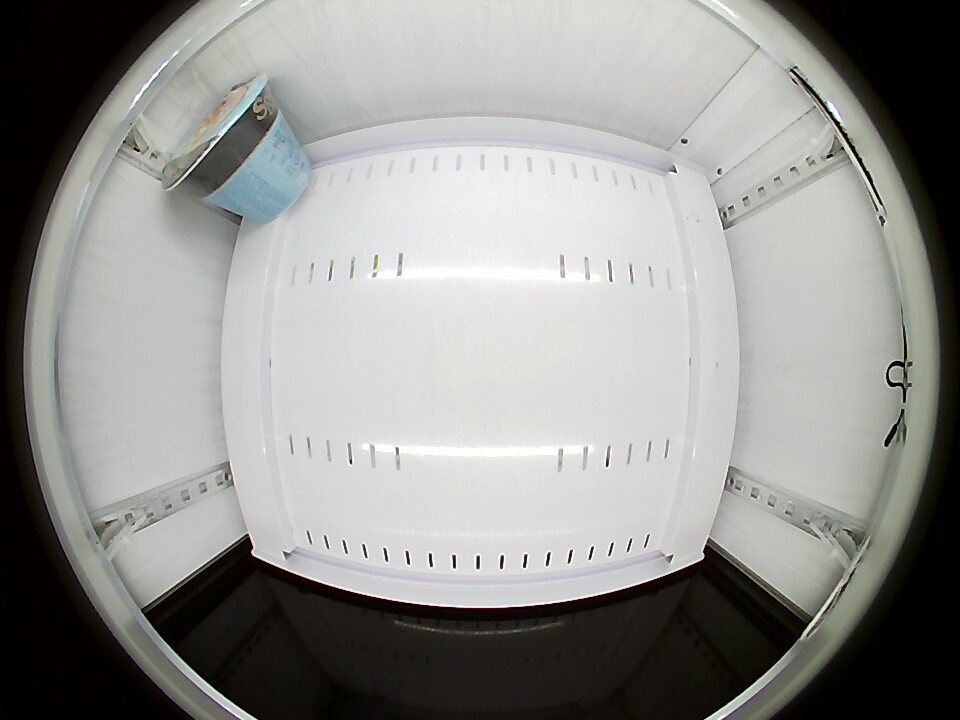tangdaren3: (161, 72, 279, 201)
